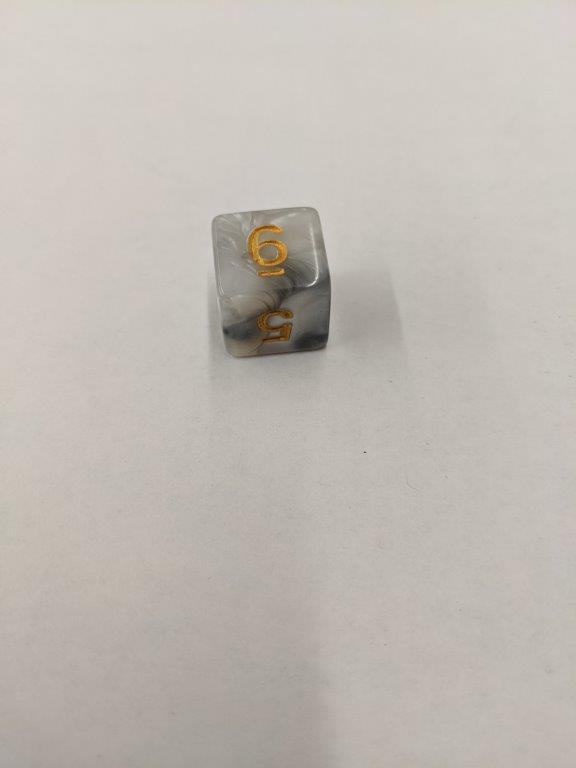d6-6: (212, 204, 334, 361)
